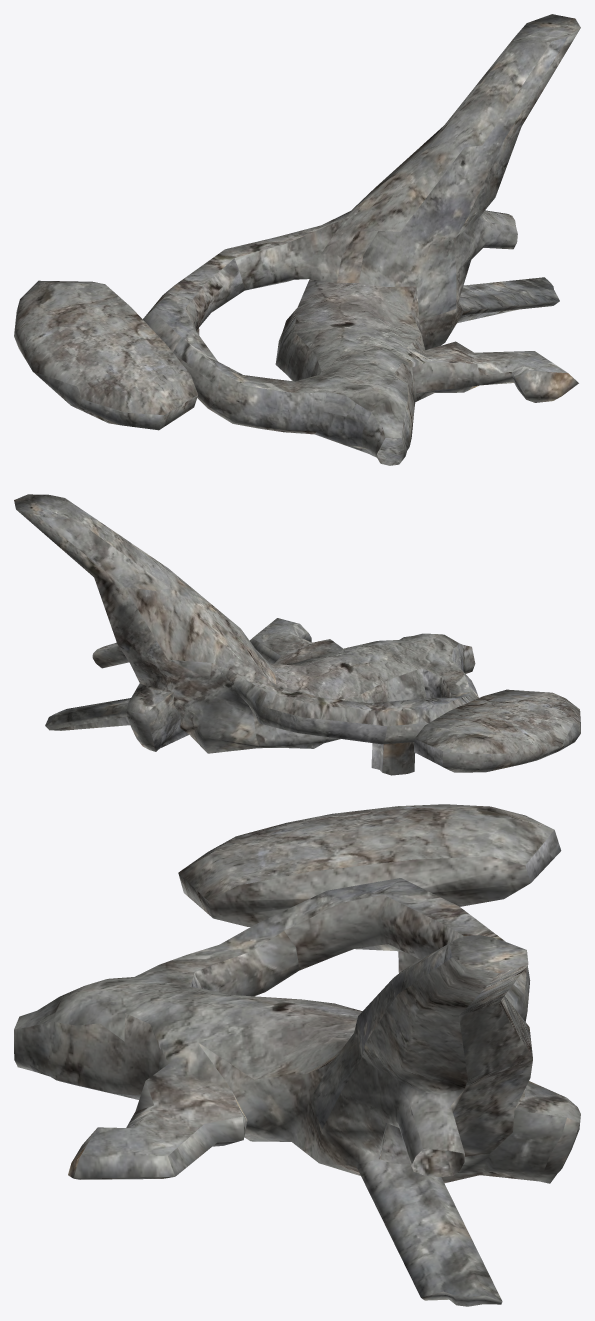
Rendered from Grotto1.fbx.
The picture shows the model from 3 angles, top to bottom: view 1: azimuth 30°, elevation 25°; view 2: azimuth 150°, elevation 25°; view 3: azimuth 270°, elevation 25°; orthographic projection. The views are drawn at different scales.
Visible parts, largest first — view 1: Grotto; view 2: Grotto; view 3: Grotto.
Part boxes in pixels (box(x1,y1,x2,y2)): Grotto: box(14, 14, 580, 465); Grotto: box(14, 494, 580, 775); Grotto: box(14, 804, 580, 1306).
Size of the model in its own units: 39.39 by 16.65 by 23.35.
